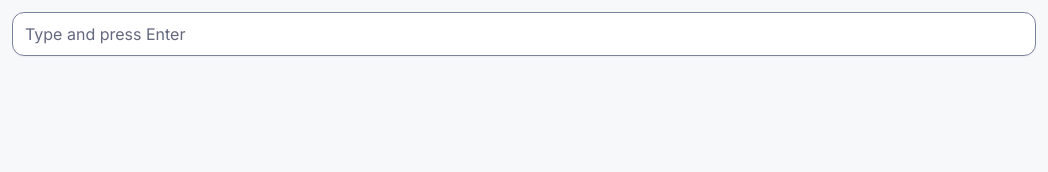
Test: TagInput › defaults the plural to the item label + "s"
Type "skincare" into the field at (524, 34), box [12,12,1036,56]
Then press Enter
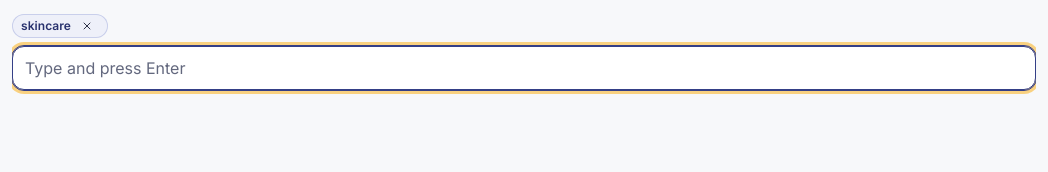
Expected: the list named "Selected topics" reads "skincare", [21,18,71,33]
